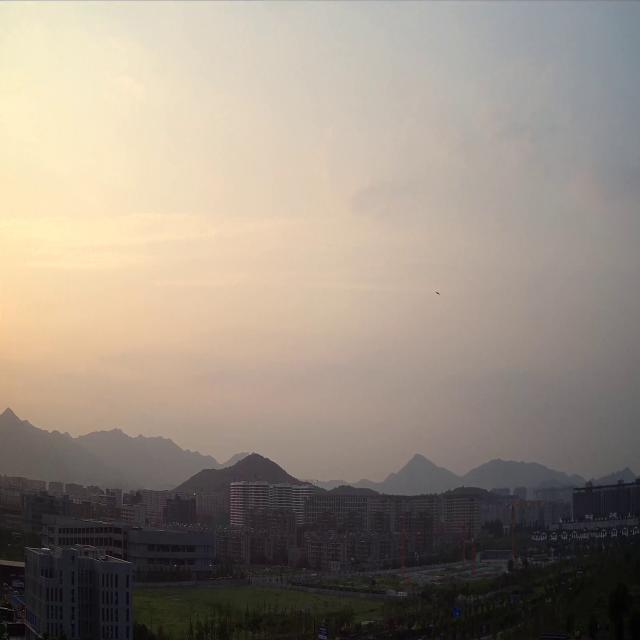drone: (436, 290, 441, 295)
